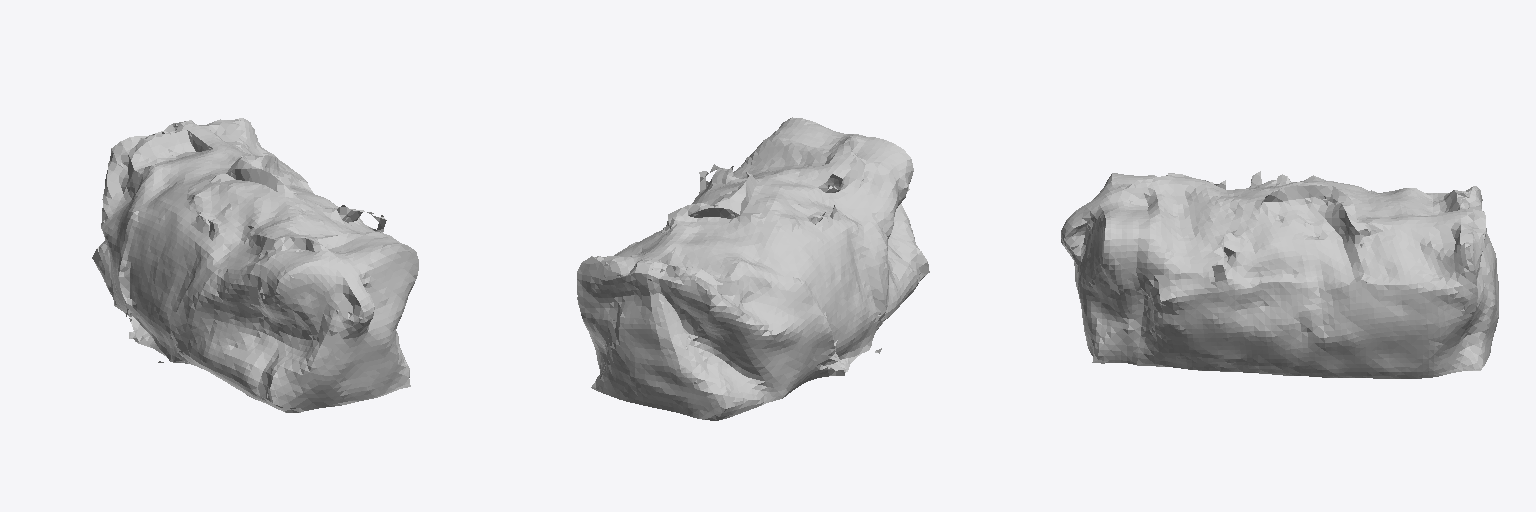
File: FINALBAG.obj
3 renders of one model, left to right at view 1: azimuth 30°, elevation 25°; view 2: azimuth 150°, elevation 25°; view 3: azimuth 270°, elevation 25°, orthographic.
Visible parts, largest first — view 1: instant; view 2: instant; view 3: instant.
Boxes of the visible parts, box(x1,y1,x2,y2) form: instant: box(92, 118, 418, 412); instant: box(577, 117, 929, 420); instant: box(1061, 171, 1498, 378).
Size of the model in its own units: 1.23 by 0.8605 by 2.21.